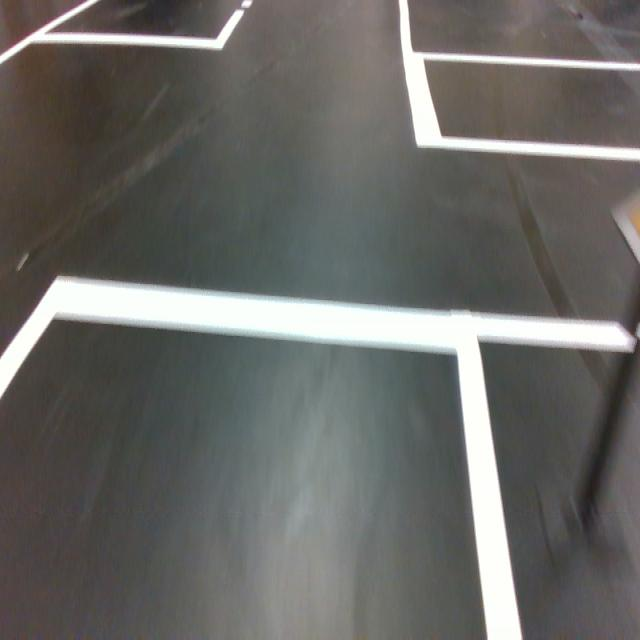priority-sign: (608, 178, 640, 269)
